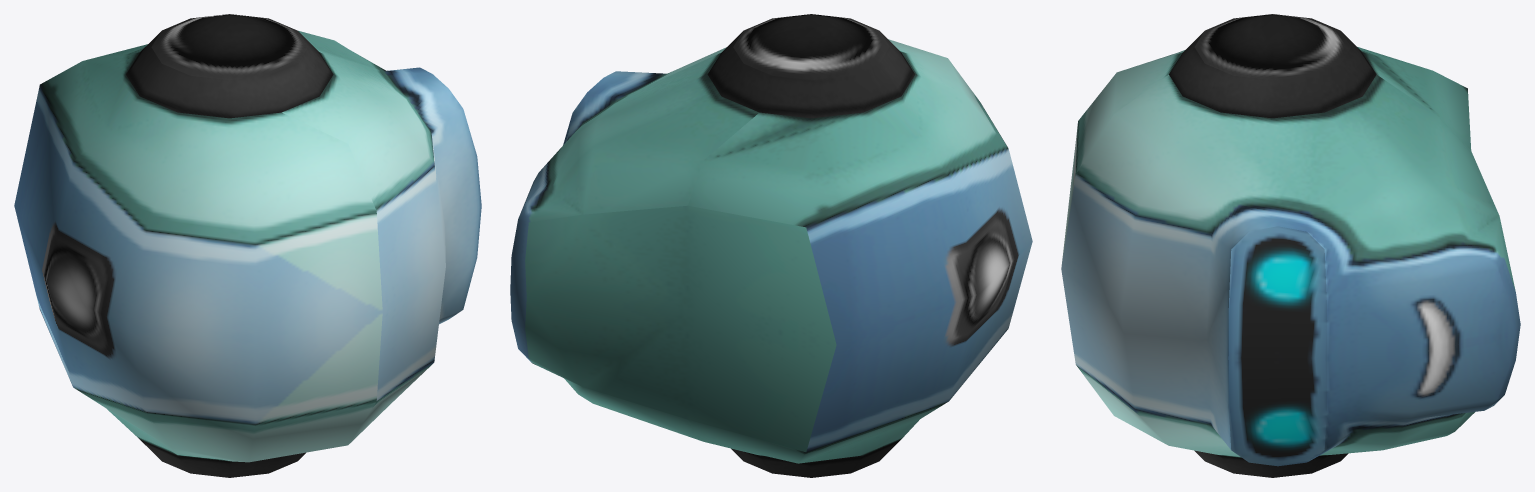
The model's file is Head.obj.
3 views of the same model, side by side, from view 1: azimuth 30°, elevation 25°; view 2: azimuth 150°, elevation 25°; view 3: azimuth 270°, elevation 25° (orthographic).
Visible parts, largest first — view 1: Head; view 2: Head; view 3: Head.
Boxes of the visible parts, left/top/right/bottom form: Head: left=14, top=14, right=481, bottom=477; Head: left=510, top=14, right=1032, bottom=477; Head: left=1061, top=14, right=1520, bottom=477.
Size of the model in its own units: 0.212 by 0.2297 by 0.2083.
1 material, 1 textured.
